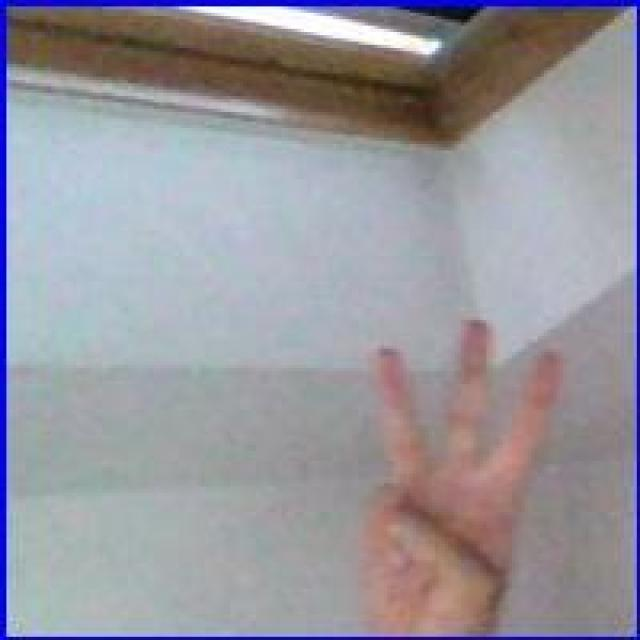W: (346, 309, 576, 632)
